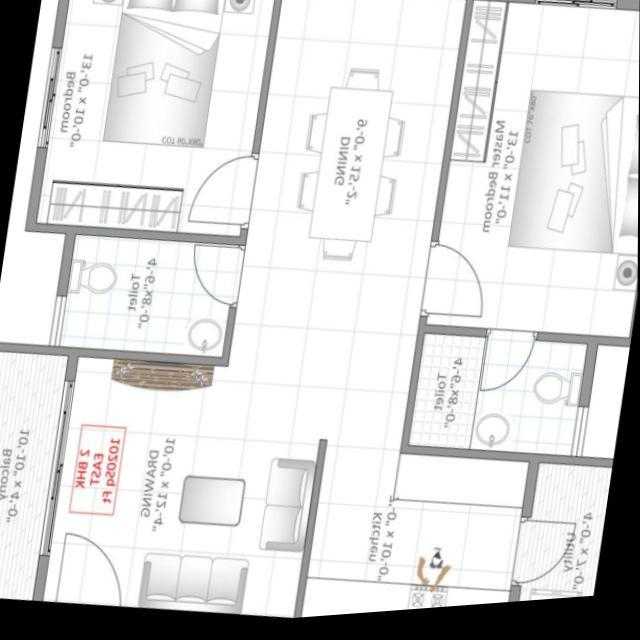Balcony-Sitout: (0, 342, 80, 602)
Bedroom: (26, 0, 282, 248)
Bedroom with Toilet: (401, 0, 640, 473)
Dining: (284, 60, 417, 273)
Enterance-Foyer: (49, 530, 139, 609)
Kitchen: (295, 444, 541, 623)
Living: (35, 349, 338, 623)
Toilet: (49, 226, 248, 369), (402, 330, 600, 472)
Utility: (509, 462, 614, 610)
